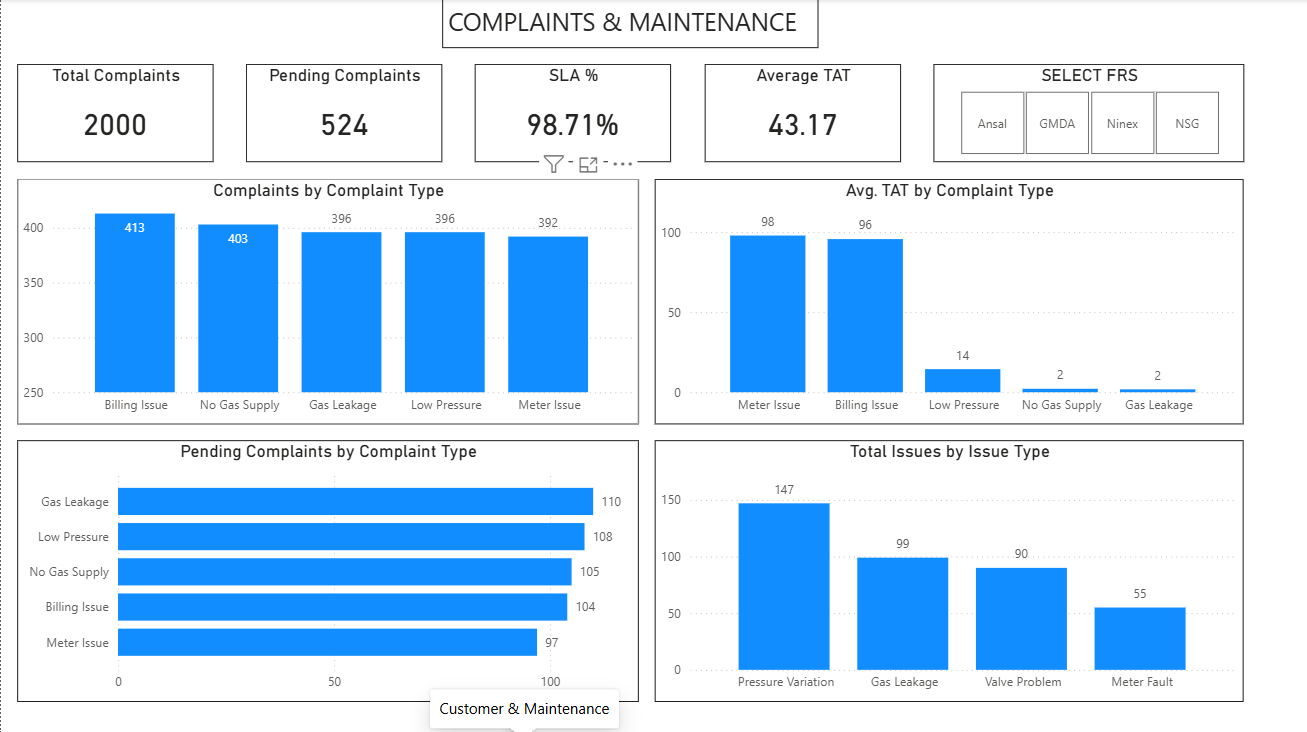

This screenshot's page, from the dashboard's own definition file:
{"tool":"powerbi","page":{"name":"Customer  & Maintenance","canvas":[1280,720],"ordinal":2},"visuals":[{"type":"card","title":"Total Complaints","fields":{"Values":["Complaints.Total_Complaints"]},"box":[16,64,192,96],"z":0},{"type":"card","title":"SLA %","fields":{"Values":["Complaints.SLA%"]},"box":[464,64,192,96],"z":1000},{"type":"card","title":"Pending Complaints","fields":{"Values":["Complaints.Pending_Complaints"]},"box":[240,64,192,96],"z":2000},{"type":"card","title":"Average TAT","fields":{"Values":["Complaints.Avg_Tat"]},"box":[688,64,192,96],"z":3000},{"type":"clusteredColumnChart","title":"Complaints by Complaint Type","fields":{"Category":["Complaints.Complaint_Type"],"Y":["Complaints.Total_Complaints"]},"box":[16,176,608,240],"z":4000},{"type":"columnChart","title":"Avg. TAT by Complaint Type","fields":{"Category":["Complaints.Complaint_Type"],"Y":["Complaints.Avg_Tat"]},"box":[640,176,576,240],"z":5000},{"type":"clusteredBarChart","title":"Pending Complaints by Complaint Type","fields":{"Category":["Complaints.Complaint_Type"],"Y":["Complaints.Pending_Complaints"]},"box":[16,432,608,256],"z":6000},{"type":"textbox","box":[432,0,368,48],"z":8000},{"type":"columnChart","title":"Total Issues by  Issue Type","fields":{"Y":["Maintenance.Issue Count"],"Category":["Maintenance.Issue_Found"]},"box":[640,432,576,256],"z":8001},{"type":"slicer","title":"SELECT FRS","fields":{"Values":["FRS_Master.FRS_Name"]},"box":[912,64,304,96],"z":8002}]}

Visuals, with their boxes in screenshot pixels (x1, y1, x2, y2), scaled from the page's 1280x720 canvas onto the 1307x732 screenshot:
"Total Complaints" card: crop(16, 65, 212, 163)
"SLA %" card: crop(474, 65, 670, 163)
"Pending Complaints" card: crop(245, 65, 441, 163)
"Average TAT" card: crop(703, 65, 899, 163)
"Complaints by Complaint Type" clusteredColumnChart: crop(16, 179, 637, 423)
"Avg. TAT by Complaint Type" columnChart: crop(654, 179, 1242, 423)
"Pending Complaints by Complaint Type" clusteredBarChart: crop(16, 439, 637, 699)
textbox: crop(441, 0, 817, 49)
"Total Issues by  Issue Type" columnChart: crop(654, 439, 1242, 699)
"SELECT FRS" slicer: crop(931, 65, 1242, 163)
